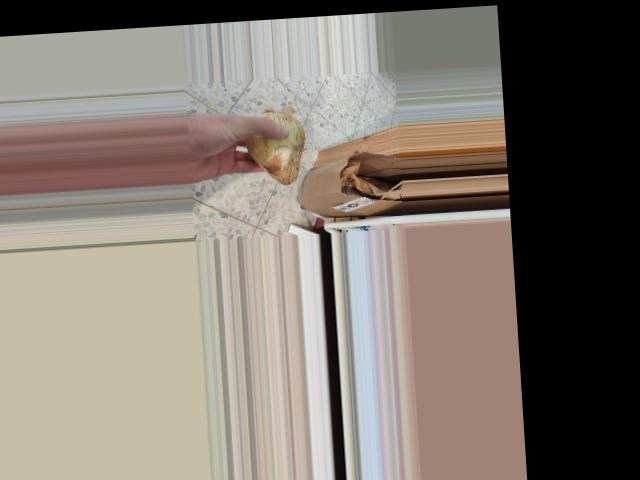onion: (238, 104, 315, 184)
